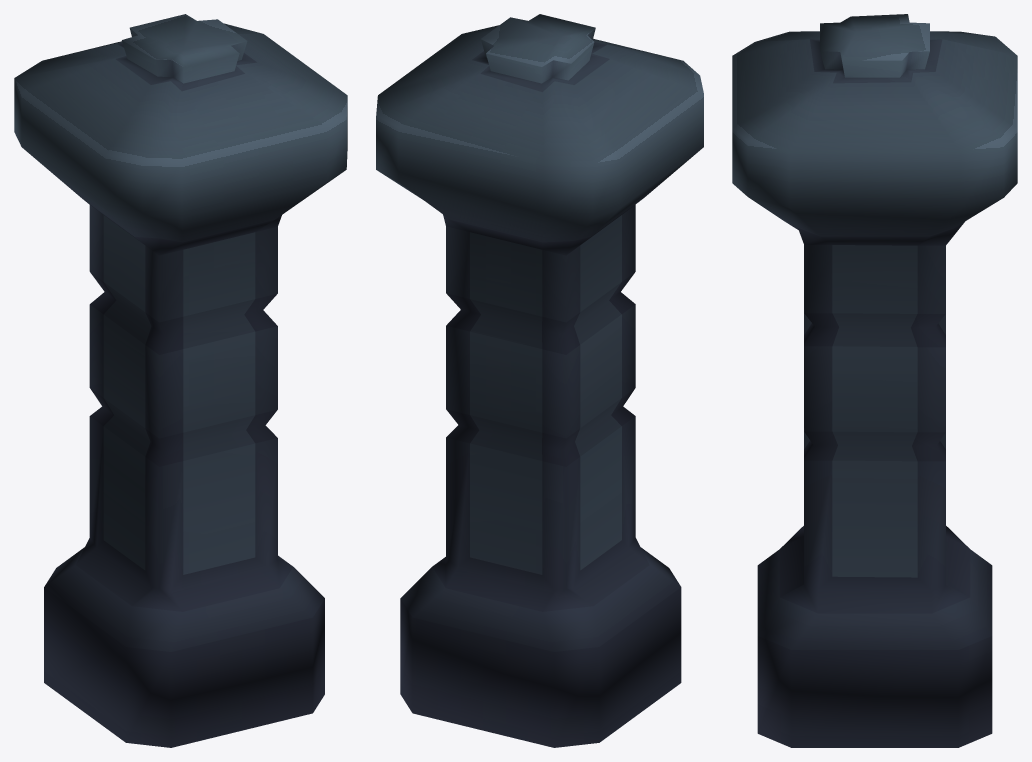
Rendered from Modular_Dungeon_Railing_Endcap.fbx.
3 views of the same model, side by side, from view 1: azimuth 30°, elevation 25°; view 2: azimuth 150°, elevation 25°; view 3: azimuth 270°, elevation 25° (orthographic). The views are drawn at different scales.
Visible parts, largest first — view 1: Railing_Endcap; view 2: Railing_Endcap; view 3: Railing_Endcap.
Boxes of the visible parts, x1,y1,x2,y2 form: Railing_Endcap: [14, 14, 347, 747]; Railing_Endcap: [376, 14, 703, 747]; Railing_Endcap: [732, 14, 1017, 747].
Bounding box in the file's own units: 0.9727 × 2.49 × 0.9727.
1 material, 1 textured.
